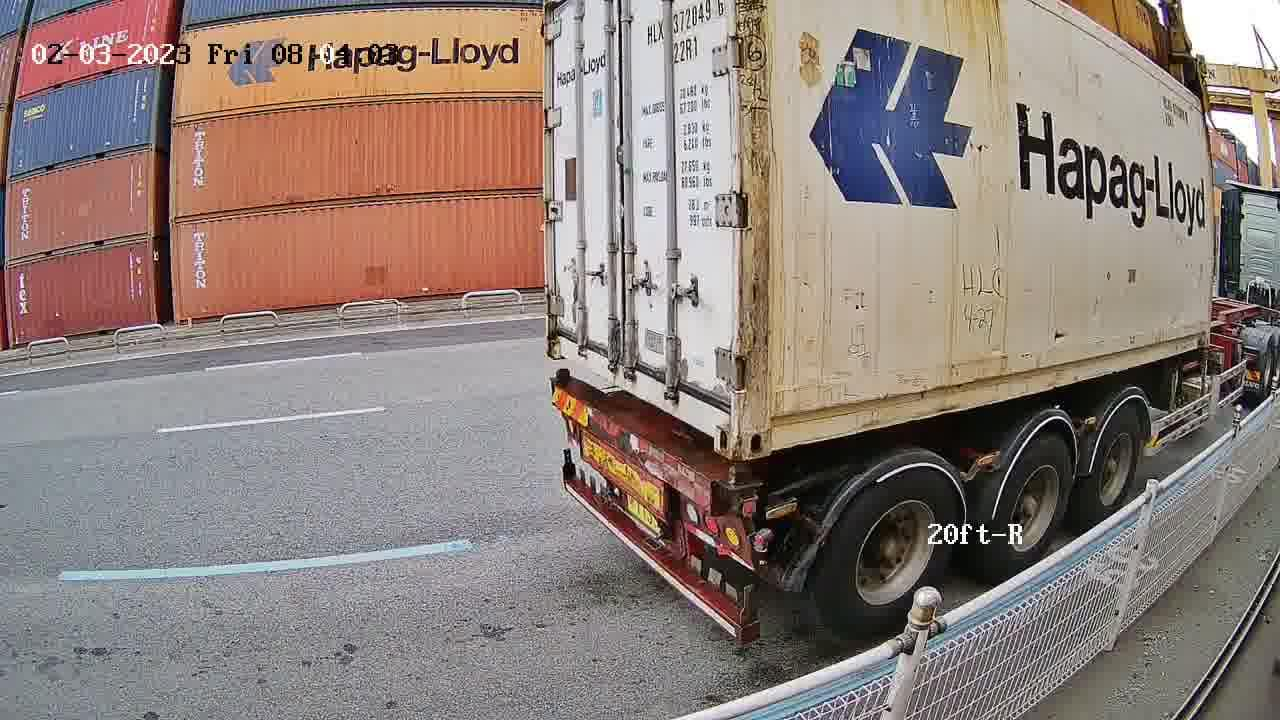Chassis: (551, 380, 760, 519)
Cone: (725, 467, 758, 519), (553, 367, 572, 382)
Hole_L: (736, 384, 800, 459), (547, 318, 579, 366)
Hole_R: (693, 378, 740, 460)
Tire: (814, 473, 961, 645), (996, 441, 1073, 580), (1084, 411, 1143, 524)
